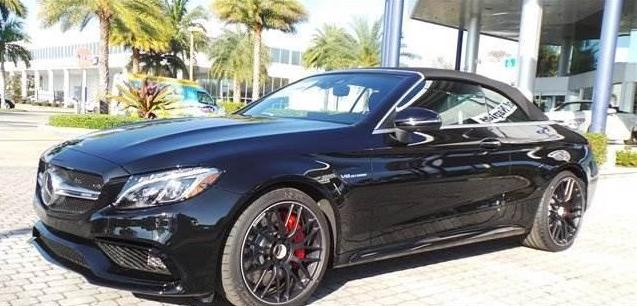C63AMG: (29, 62, 594, 306)
